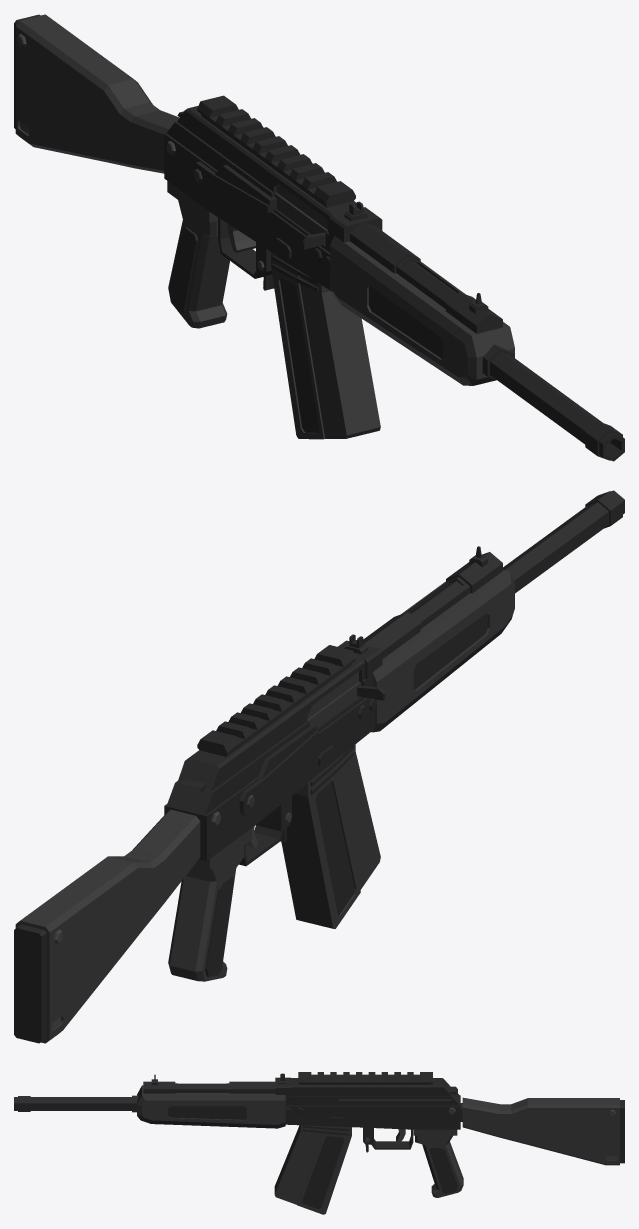
File: ShotGun_D.fbx
3 renders of one model, top to bottom at view 1: azimuth 30°, elevation 25°; view 2: azimuth 150°, elevation 25°; view 3: azimuth 270°, elevation 25°, orthographic. The views are drawn at different scales.
Parts seen in each view (by area): view 1: ShotGun_D_Stock, ShotGun_D_Receiver, ShotGun_D_BarrelGuard, ShotGun_D_Mag, ShotGun_D_Grip, ShotGun_D_Rail, ShotGun_D_Barrel; view 2: ShotGun_D_Stock, ShotGun_D_Receiver, ShotGun_D_BarrelGuard, ShotGun_D_Mag, ShotGun_D_Grip, ShotGun_D_Rail, ShotGun_D_Barrel; view 3: ShotGun_D_Receiver, ShotGun_D_Stock, ShotGun_D_BarrelGuard, ShotGun_D_Mag, ShotGun_D_Grip, ShotGun_D_Barrel, ShotGun_D_Rail.
Boxes of the visible parts, x1,y1,x2,y2 form: ShotGun_D_Stock: [14, 14, 179, 173]; ShotGun_D_Receiver: [164, 106, 382, 291]; ShotGun_D_BarrelGuard: [330, 222, 514, 385]; ShotGun_D_Mag: [271, 252, 380, 439]; ShotGun_D_Grip: [167, 181, 229, 328]; ShotGun_D_Rail: [197, 95, 355, 207]; ShotGun_D_Barrel: [482, 344, 624, 461]; ShotGun_D_Stock: [14, 809, 200, 1043]; ShotGun_D_Receiver: [164, 640, 382, 866]; ShotGun_D_BarrelGuard: [363, 552, 514, 732]; ShotGun_D_Mag: [281, 744, 380, 928]; ShotGun_D_Grip: [168, 828, 251, 981]; ShotGun_D_Rail: [197, 645, 355, 756]; ShotGun_D_Barrel: [503, 490, 624, 593]; ShotGun_D_Receiver: [275, 1077, 462, 1152]; ShotGun_D_Stock: [462, 1097, 624, 1165]; ShotGun_D_BarrelGuard: [137, 1081, 285, 1128]; ShotGun_D_Mag: [274, 1125, 351, 1214]; ShotGun_D_Grip: [413, 1129, 463, 1197]; ShotGun_D_Barrel: [14, 1095, 138, 1112]; ShotGun_D_Rail: [298, 1072, 432, 1084].
Bounding box in the file's own units: 0.0762 × 0.2911 × 1.19.
